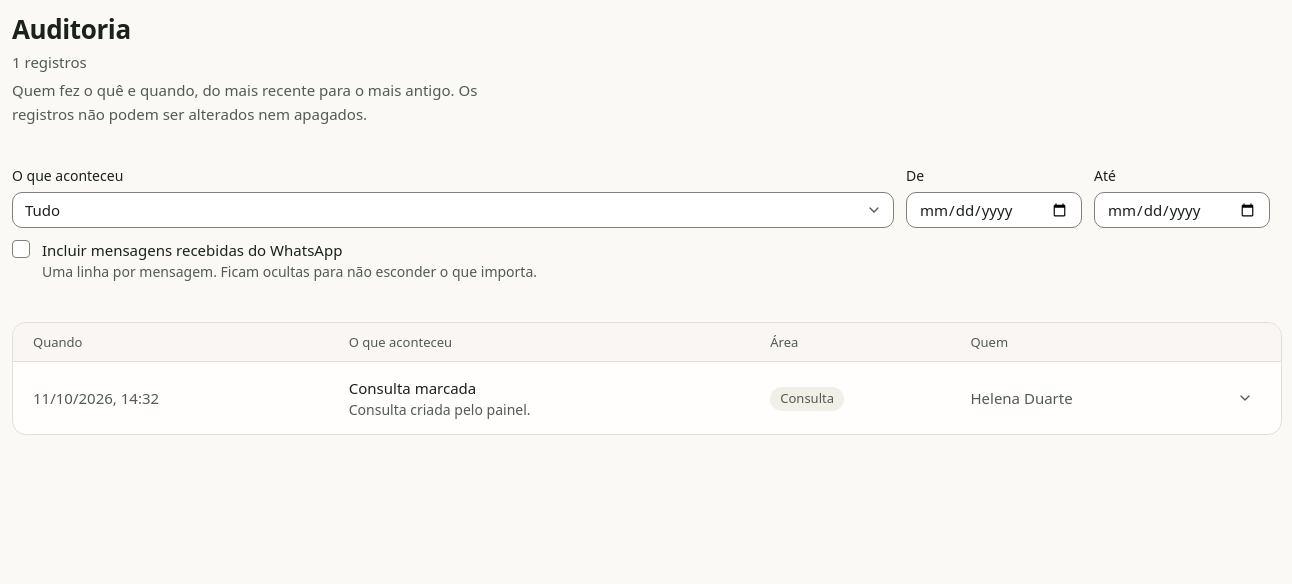
Test: AuditoriaPage › abre e fecha o detalhe do registro com o dado depois da ação
Click the button named "Ver detalhes de Consulta marcada" at point(1245, 398), box [1229,382,1261,414]
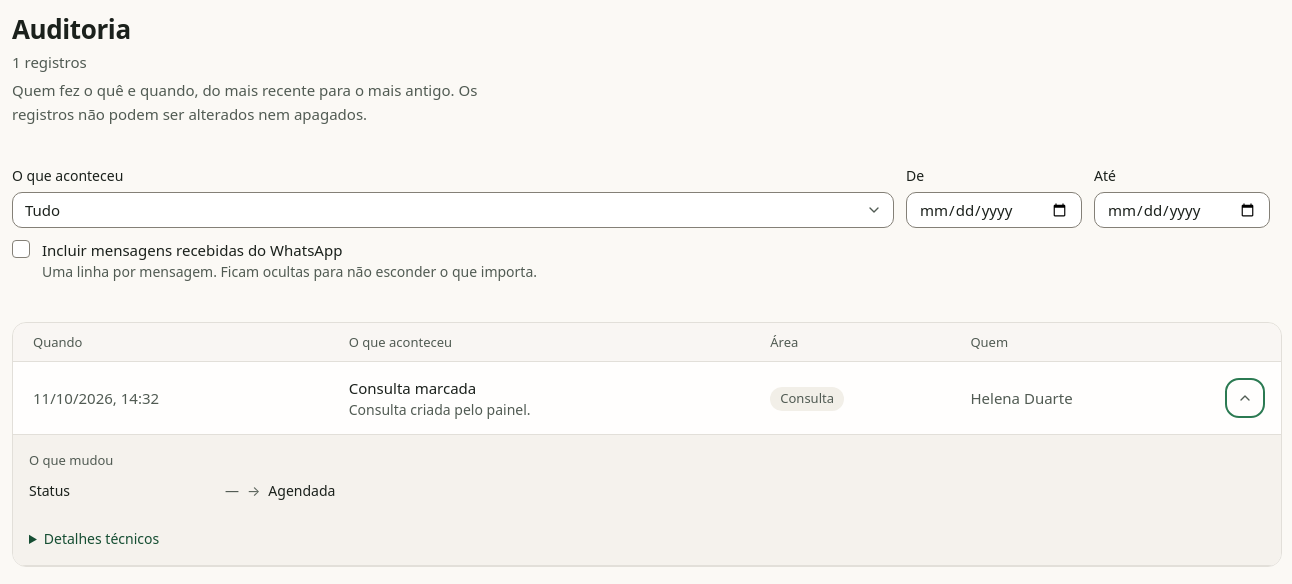
Expected: the text "Status" is shown, [29,481,70,500]
Expected: the text "Agendada" is shown, [268,481,335,500]
Expected: the button named "Ocultar detalhes de Consulta marcada" is expanded
Click the button named "Ocultar detalhes de Consulta marcada" at point(1245, 398), box [1229,382,1261,414]
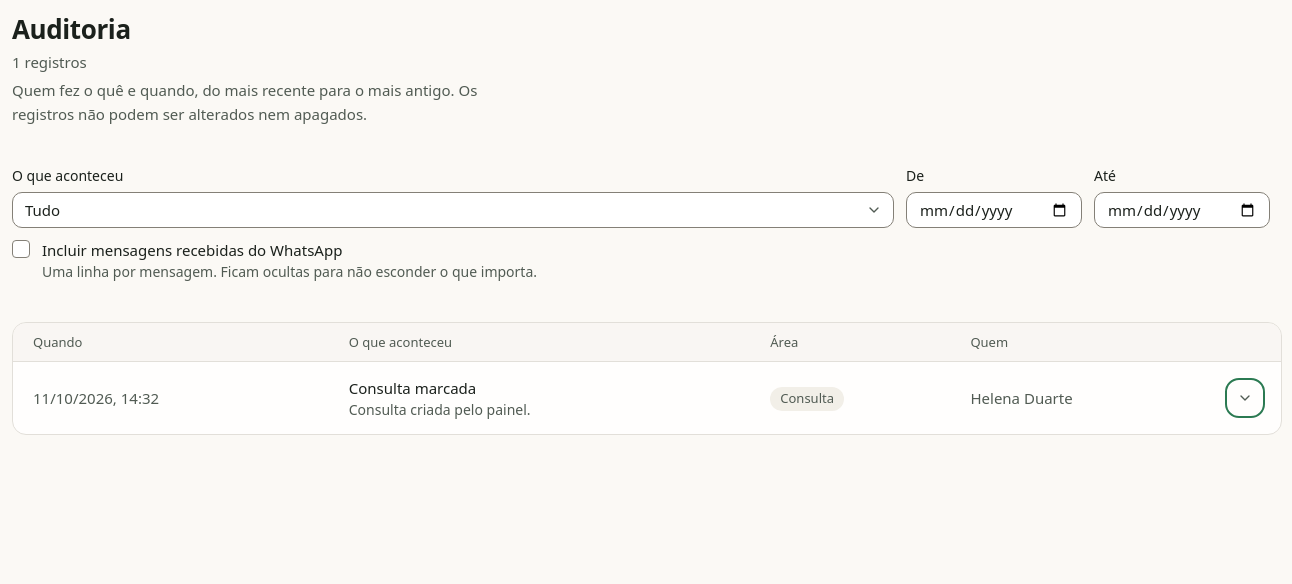
Expected: the text "Agendada" is gone
